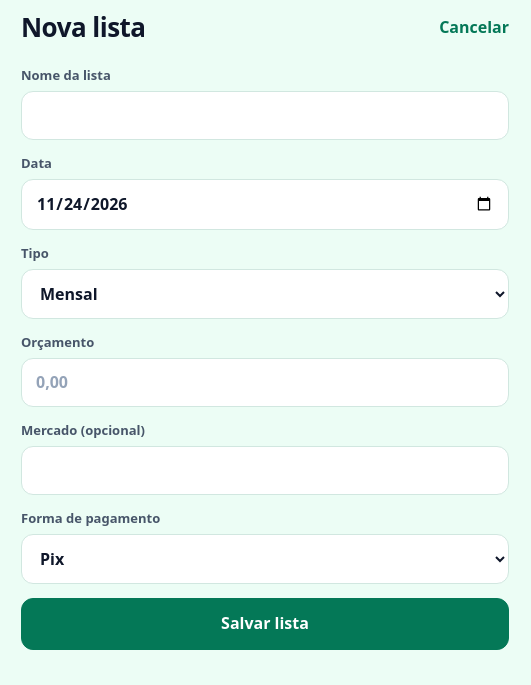
Test case: CA-R4: criar lista pela tela › avisa quando o orçamento está vazio e não cria a lista
This screenshot has width=531, height=685.
In the field labelled "Nome da lista": (265, 115) [21,91,509,140], type "Sem orçamento"
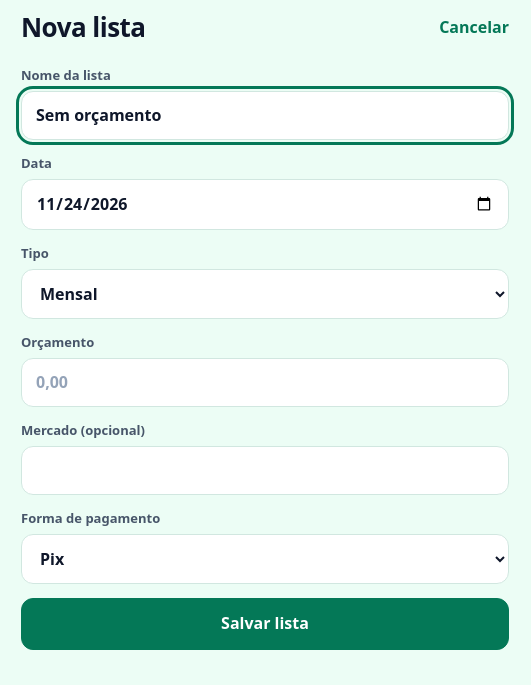
Click the button "Salvar lista": click(265, 624) [21,598,509,650]
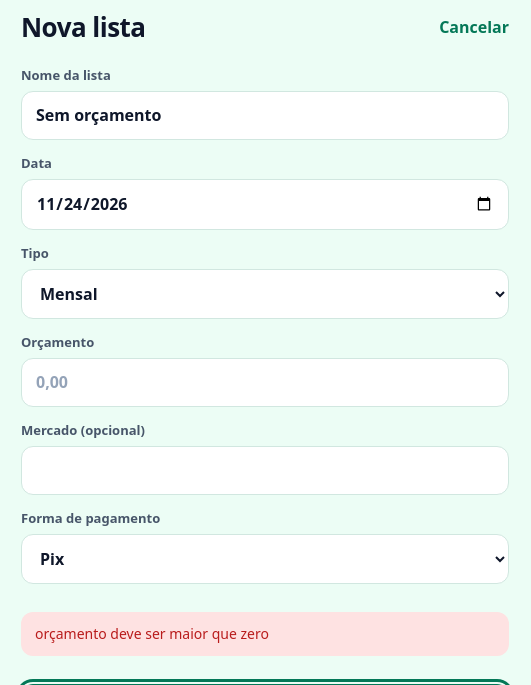
Expected: the text "orçamento deve ser maior que zero" is shown, [21,612,509,656]
